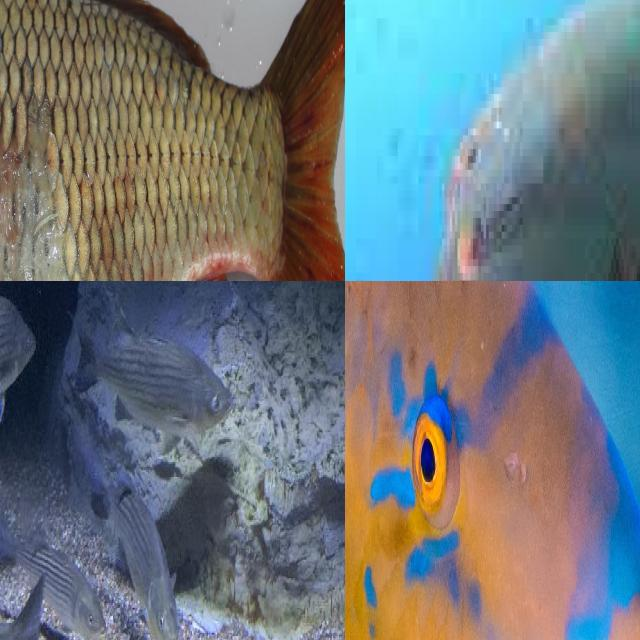fish: (0, 0, 345, 281), (345, 0, 640, 281), (345, 463, 595, 640), (0, 281, 35, 443)
